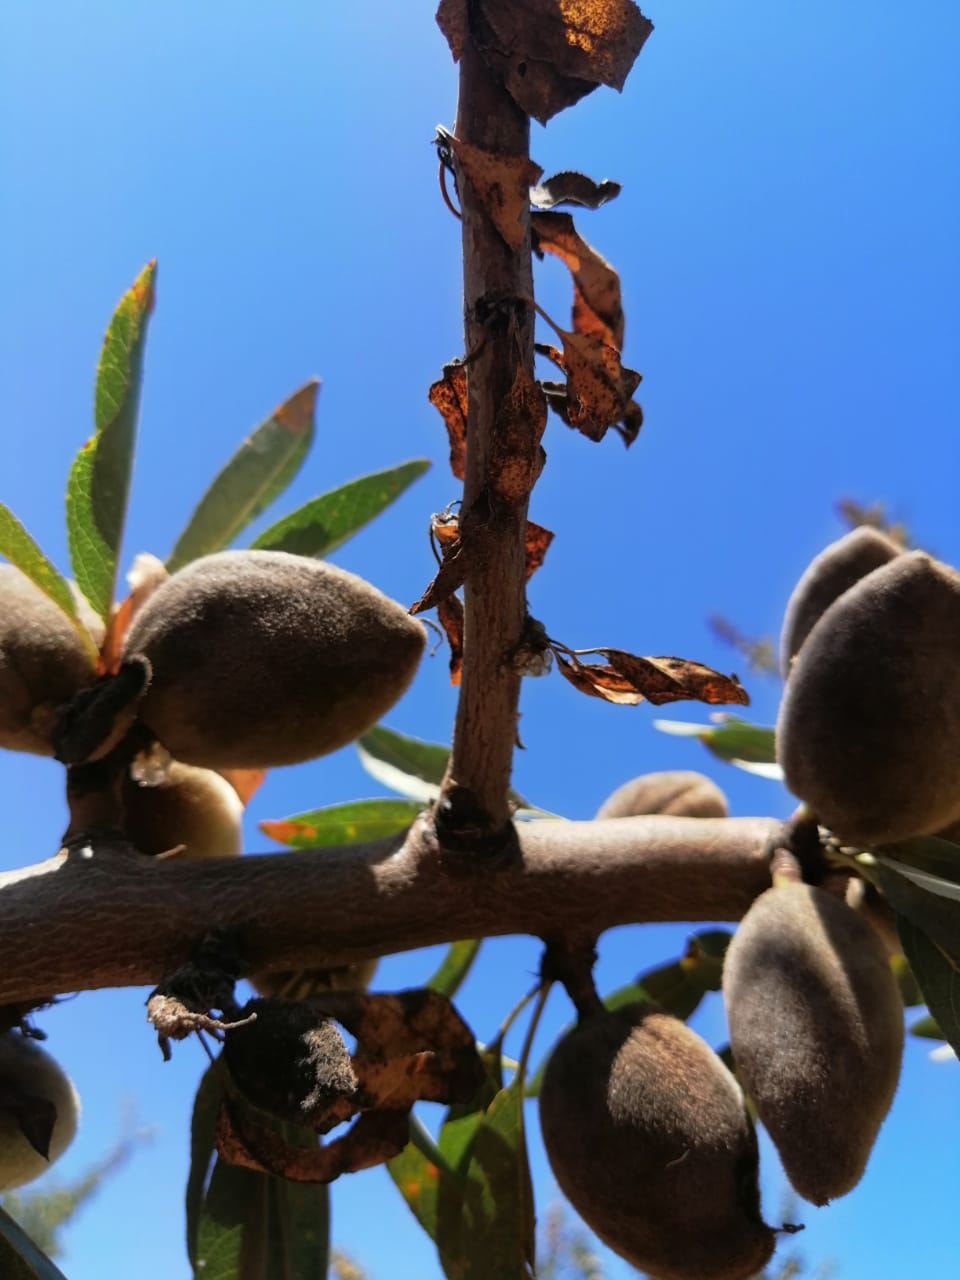scolytes: (409, 1, 757, 710)
